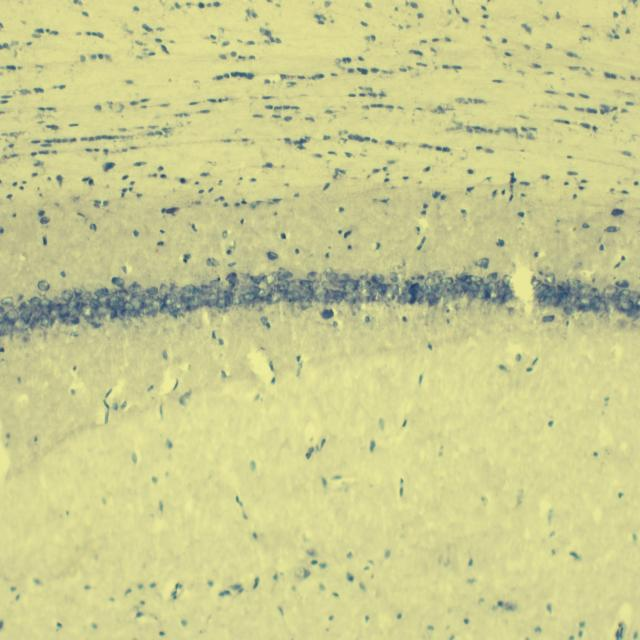neuron: (499, 284, 512, 304), (129, 296, 146, 311), (314, 288, 330, 303), (103, 304, 118, 319), (595, 300, 606, 320), (463, 281, 481, 293), (0, 321, 14, 336), (226, 272, 240, 287), (266, 291, 281, 305), (294, 284, 308, 299), (343, 279, 358, 293), (186, 295, 199, 311), (253, 295, 265, 312), (4, 308, 18, 322), (342, 291, 357, 304), (20, 310, 32, 326), (32, 304, 44, 320), (274, 280, 290, 292), (292, 297, 302, 316), (590, 295, 601, 312), (169, 284, 182, 298), (298, 297, 312, 310), (83, 314, 98, 326), (180, 290, 195, 302), (307, 271, 322, 283), (14, 316, 25, 332), (181, 283, 197, 294), (474, 258, 490, 269), (427, 292, 438, 308), (576, 296, 592, 307), (200, 284, 213, 297), (215, 297, 228, 310), (62, 288, 74, 302), (97, 295, 111, 307), (216, 287, 230, 299), (262, 274, 276, 286), (312, 284, 326, 296), (332, 290, 344, 304), (220, 280, 236, 290), (277, 271, 293, 281), (356, 278, 372, 288), (95, 304, 108, 316), (112, 276, 125, 288), (120, 308, 133, 320), (123, 300, 135, 313), (152, 298, 165, 310), (159, 283, 171, 296), (163, 294, 176, 306), (146, 306, 159, 318), (337, 272, 350, 284), (38, 298, 52, 309), (59, 304, 70, 318), (370, 273, 384, 284), (366, 287, 377, 301), (620, 300, 634, 311), (113, 289, 130, 298), (208, 293, 218, 308), (407, 290, 417, 305), (89, 298, 101, 310), (171, 300, 183, 312), (238, 272, 250, 284), (238, 298, 250, 310), (424, 276, 436, 288), (434, 282, 446, 294), (544, 286, 556, 298), (409, 282, 420, 295), (539, 295, 552, 306), (536, 283, 550, 293), (94, 287, 109, 296), (439, 277, 454, 286), (472, 290, 487, 299), (38, 280, 50, 291), (47, 308, 59, 319), (192, 288, 204, 299), (283, 291, 294, 303), (326, 272, 338, 283), (380, 292, 391, 304), (557, 280, 569, 291), (1, 296, 14, 306), (138, 307, 151, 317), (207, 258, 220, 268), (243, 292, 256, 302), (300, 280, 313, 290), (486, 282, 499, 292), (487, 290, 500, 300), (568, 286, 581, 296), (68, 308, 82, 317), (227, 292, 236, 306), (615, 279, 629, 288), (82, 305, 93, 316), (209, 279, 220, 290), (454, 282, 465, 293), (40, 316, 50, 328), (116, 298, 126, 310), (144, 295, 154, 307), (206, 298, 218, 308), (327, 289, 335, 304), (359, 268, 369, 280), (544, 272, 554, 284), (550, 295, 560, 307), (563, 306, 575, 316), (566, 278, 581, 286), (234, 287, 247, 296), (287, 280, 296, 293), (321, 280, 334, 289), (418, 280, 427, 293), (454, 273, 468, 281), (468, 275, 484, 282), (604, 286, 618, 294), (30, 296, 40, 307), (258, 288, 269, 298), (487, 272, 498, 282), (466, 291, 476, 302), (129, 283, 141, 292), (146, 286, 158, 295), (181, 301, 190, 313), (249, 285, 261, 294), (243, 277, 252, 289), (250, 275, 262, 284), (335, 279, 347, 288), (542, 315, 555, 323), (70, 315, 80, 325), (377, 284, 387, 294), (389, 284, 399, 294), (558, 292, 568, 302), (159, 305, 170, 314), (267, 251, 278, 260), (277, 289, 288, 298), (353, 302, 362, 313), (390, 271, 399, 282), (15, 307, 27, 315), (109, 296, 121, 304), (396, 284, 404, 296), (502, 274, 510, 286), (618, 289, 630, 297), (82, 291, 92, 300), (178, 307, 187, 317), (232, 297, 242, 306), (382, 278, 392, 287), (398, 295, 407, 305), (417, 295, 427, 304), (478, 283, 488, 292), (21, 300, 32, 308), (569, 295, 577, 306), (357, 291, 364, 303), (434, 269, 446, 276), (577, 283, 591, 289), (70, 300, 80, 308), (168, 310, 178, 318), (198, 299, 208, 307), (260, 316, 268, 326), (74, 288, 83, 296), (38, 289, 47, 297), (416, 274, 425, 282), (427, 284, 433, 296), (507, 307, 515, 316), (530, 280, 541, 286), (324, 267, 332, 275), (364, 295, 371, 304), (405, 280, 414, 287), (426, 272, 436, 278), (0, 305, 5, 316), (271, 271, 281, 276), (278, 267, 286, 272)
